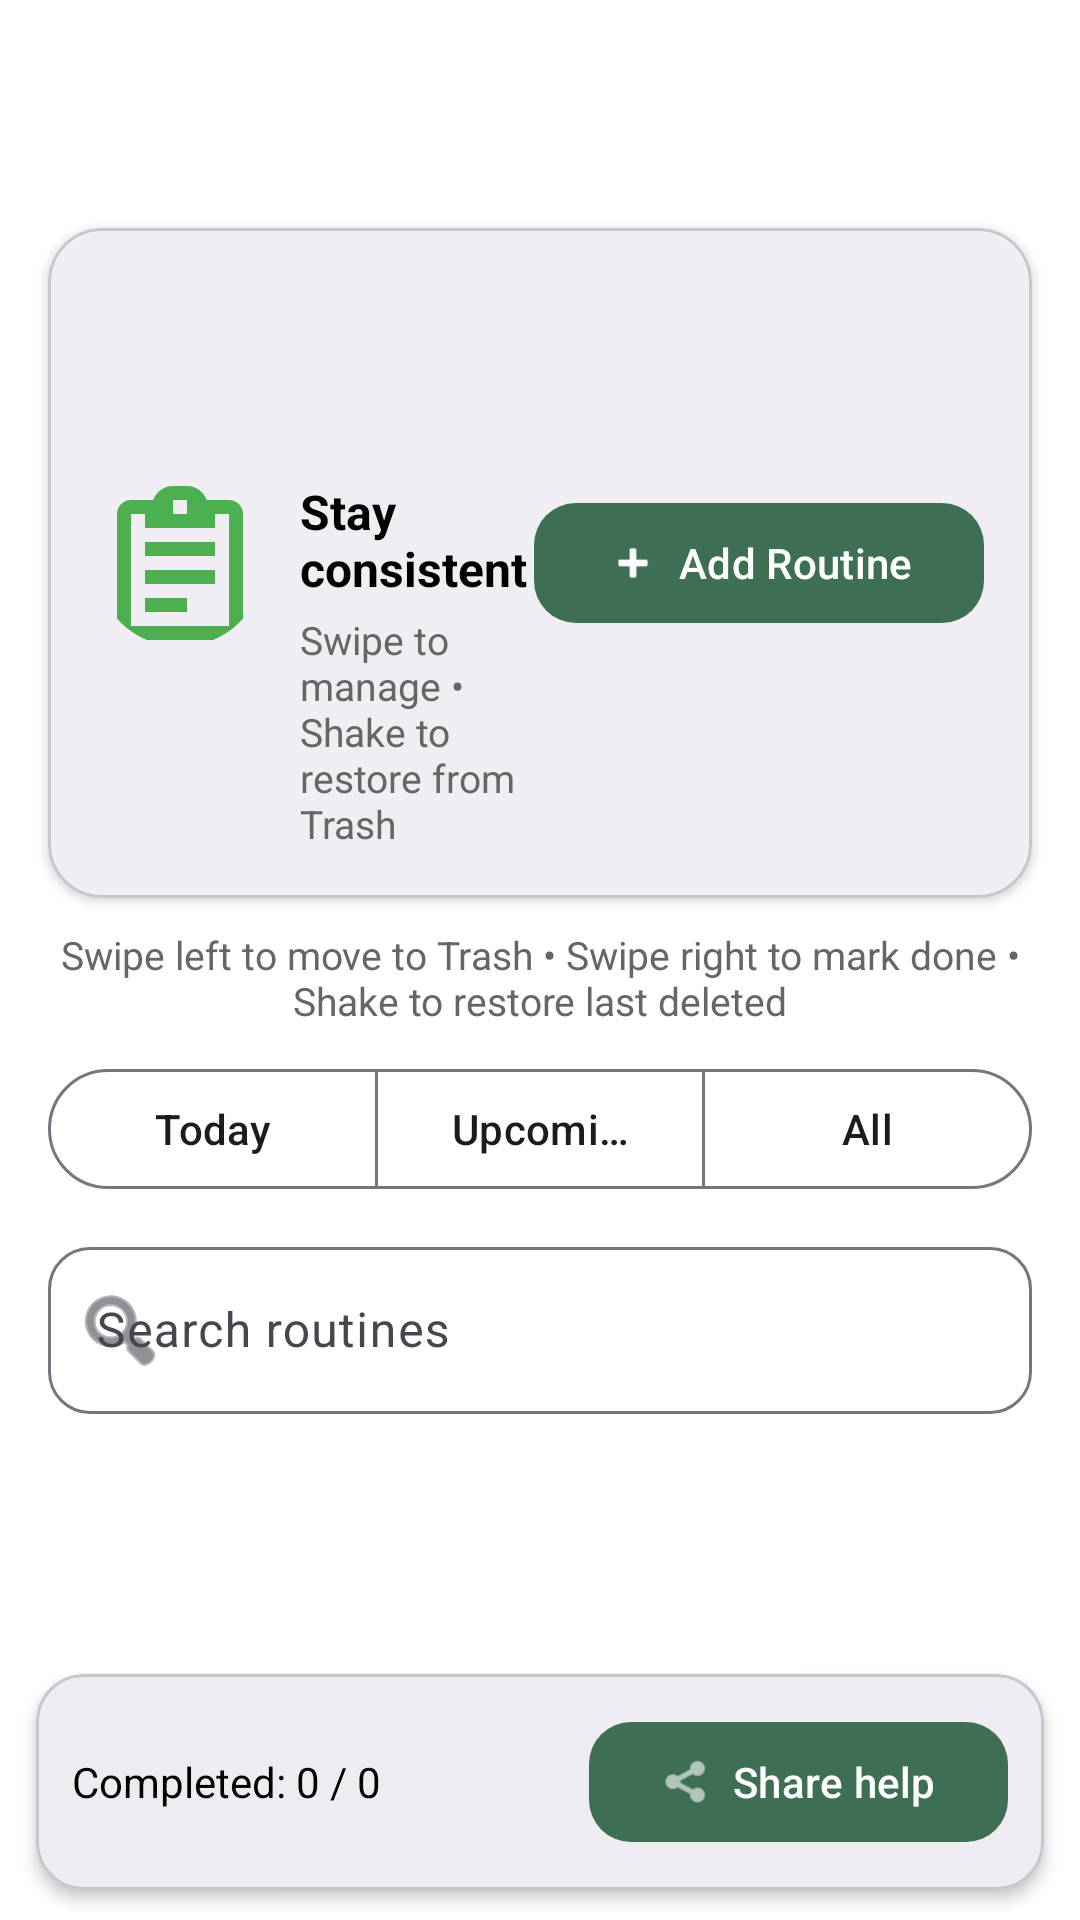

Where to tap for icons on this 1080px×1920px app screen, as (x,y):
Routine icon: (180,563)
